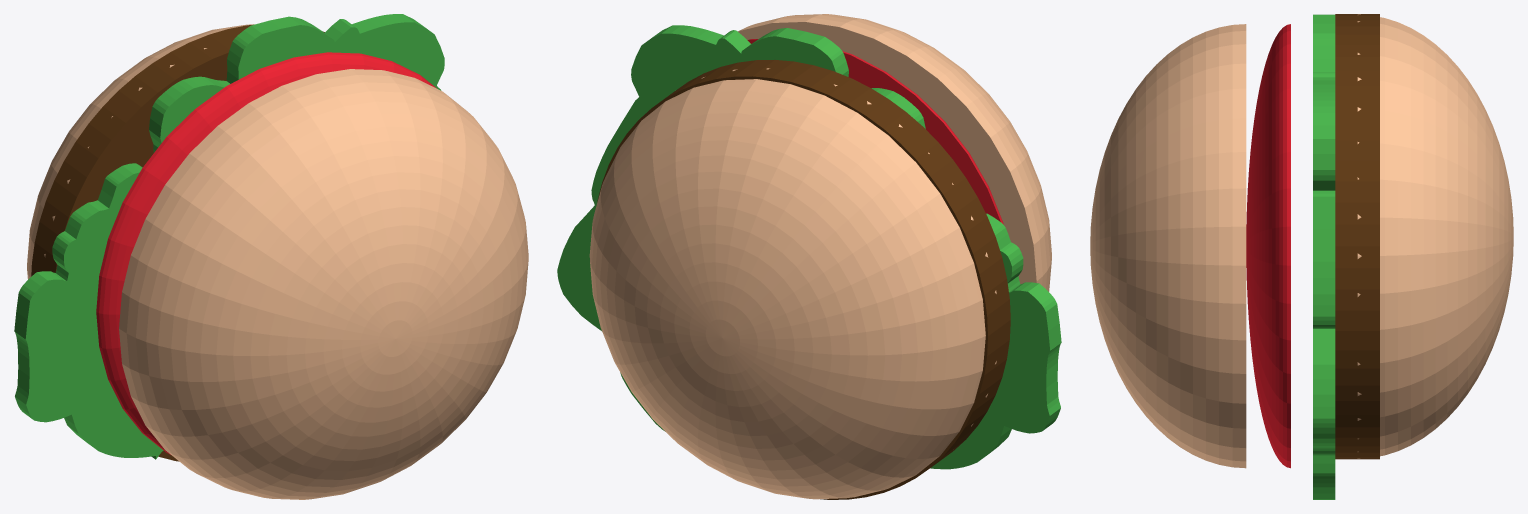
Rendered from tinker.obj.
3 views of the same model, side by side, from view 1: azimuth 30°, elevation 25°; view 2: azimuth 150°, elevation 25°; view 3: azimuth 270°, elevation 25° (orthographic). The views are drawn at different scales.
Visible parts, largest first — view 1: obj_0, obj_3, obj_2, obj_4, obj_1; view 2: obj_1, obj_3, obj_0, obj_4, obj_2; view 3: obj_0, obj_1, obj_4, obj_2, obj_3.
Part boxes in pixels (bbox=[...]): obj_0: bbox=[119, 69, 528, 499]; obj_3: bbox=[14, 14, 444, 459]; obj_2: bbox=[96, 52, 436, 454]; obj_4: bbox=[31, 24, 324, 461]; obj_1: bbox=[27, 24, 254, 279]; obj_1: bbox=[589, 68, 996, 499]; obj_3: bbox=[557, 25, 1061, 469]; obj_0: bbox=[738, 14, 1051, 291]; obj_4: bbox=[597, 60, 1010, 499]; obj_2: bbox=[747, 39, 1003, 224]; obj_0: bbox=[1090, 24, 1246, 468]; obj_1: bbox=[1357, 14, 1513, 458]; obj_4: bbox=[1335, 14, 1379, 459]; obj_2: bbox=[1246, 24, 1290, 468]; obj_3: bbox=[1313, 14, 1335, 499].
Size of the model in its own units: 25 by 21 by 19.
